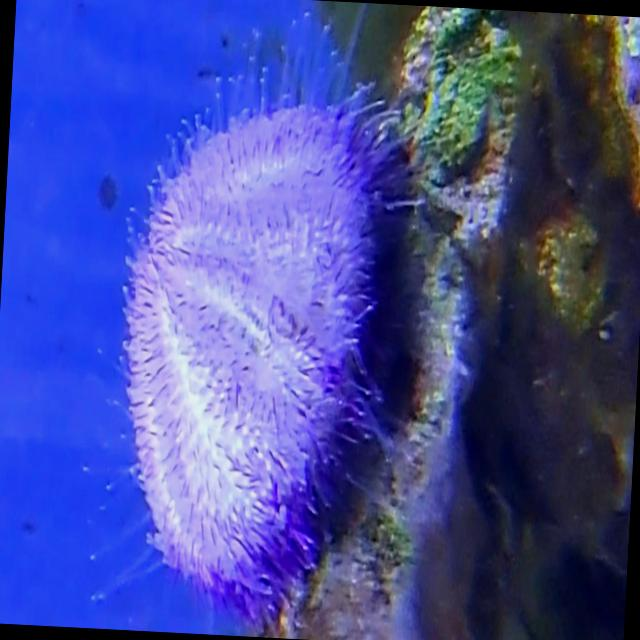Deniz Kestanesi: (91, 41, 415, 632)
